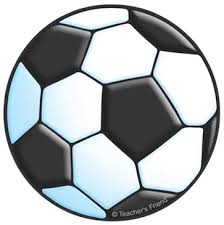football ball: (3, 4, 223, 224)
